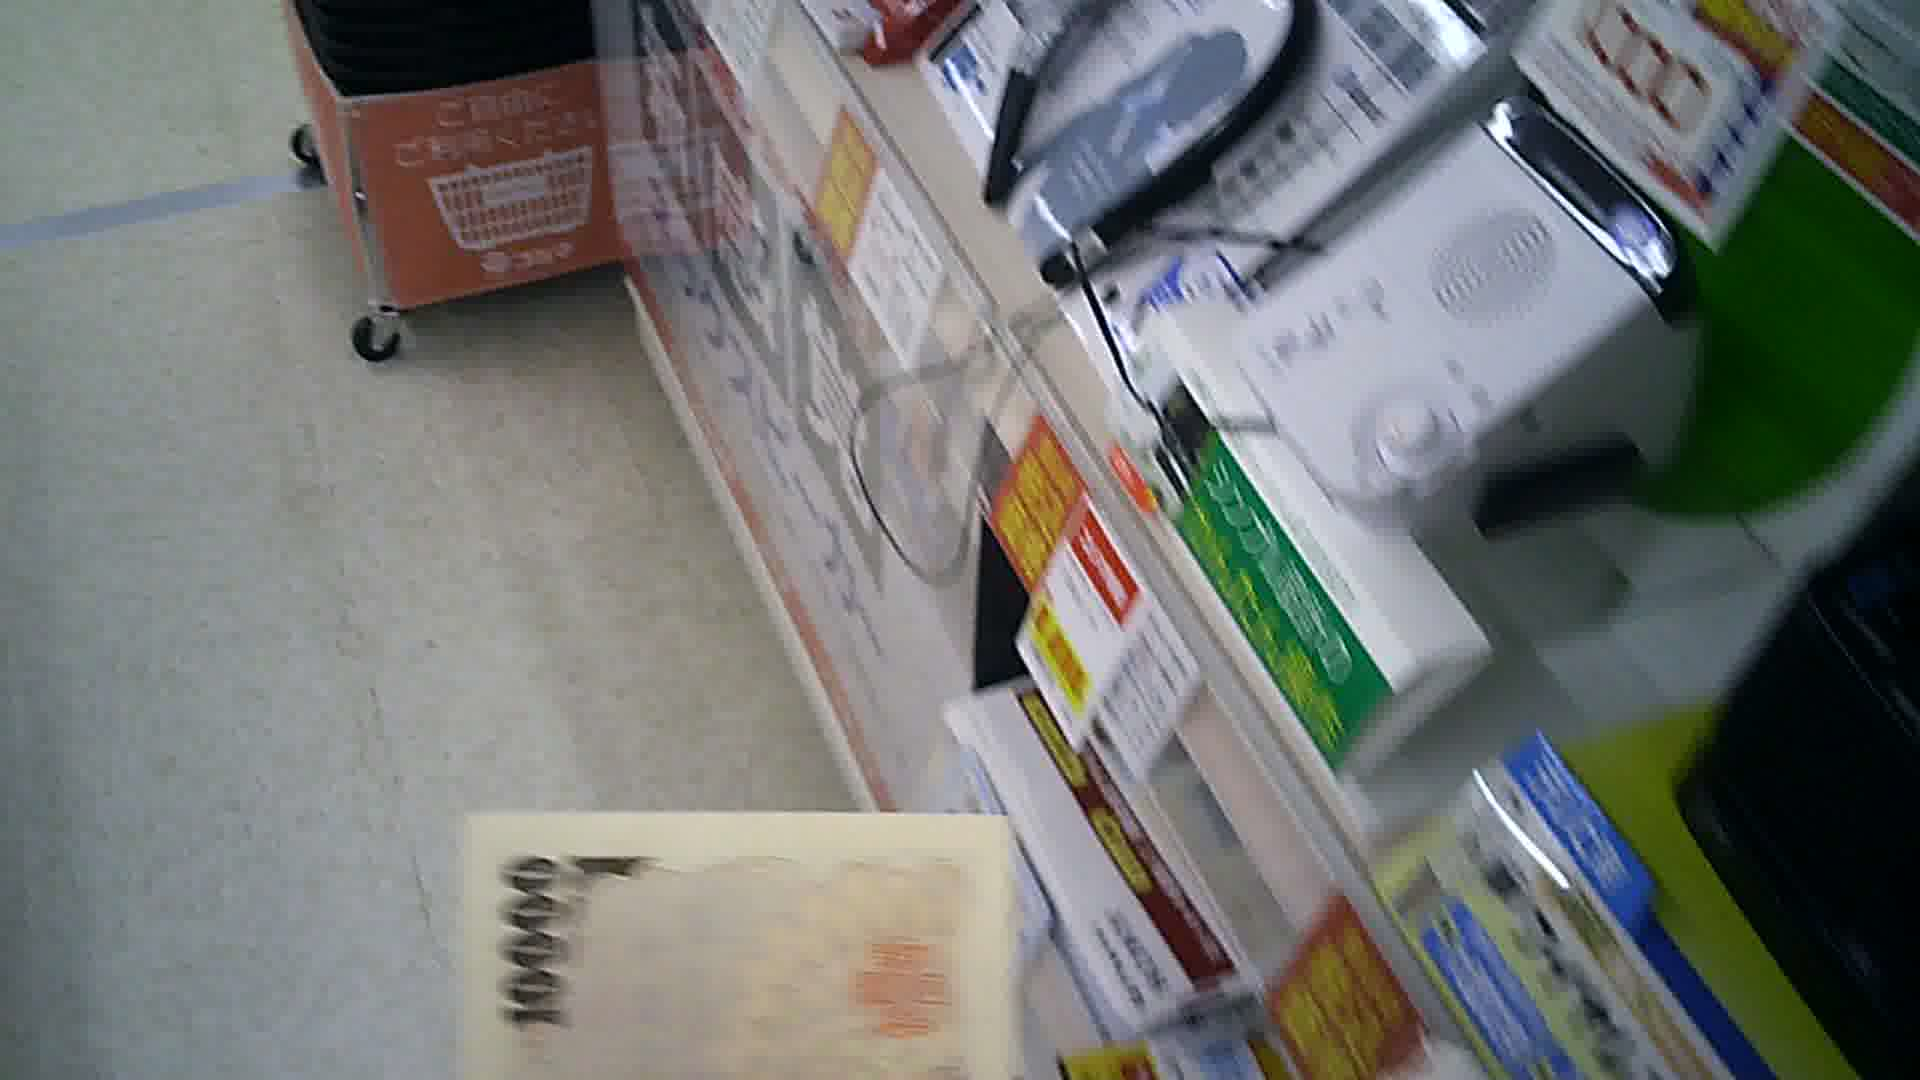10,000 Yen: (439, 789, 1027, 1079)
